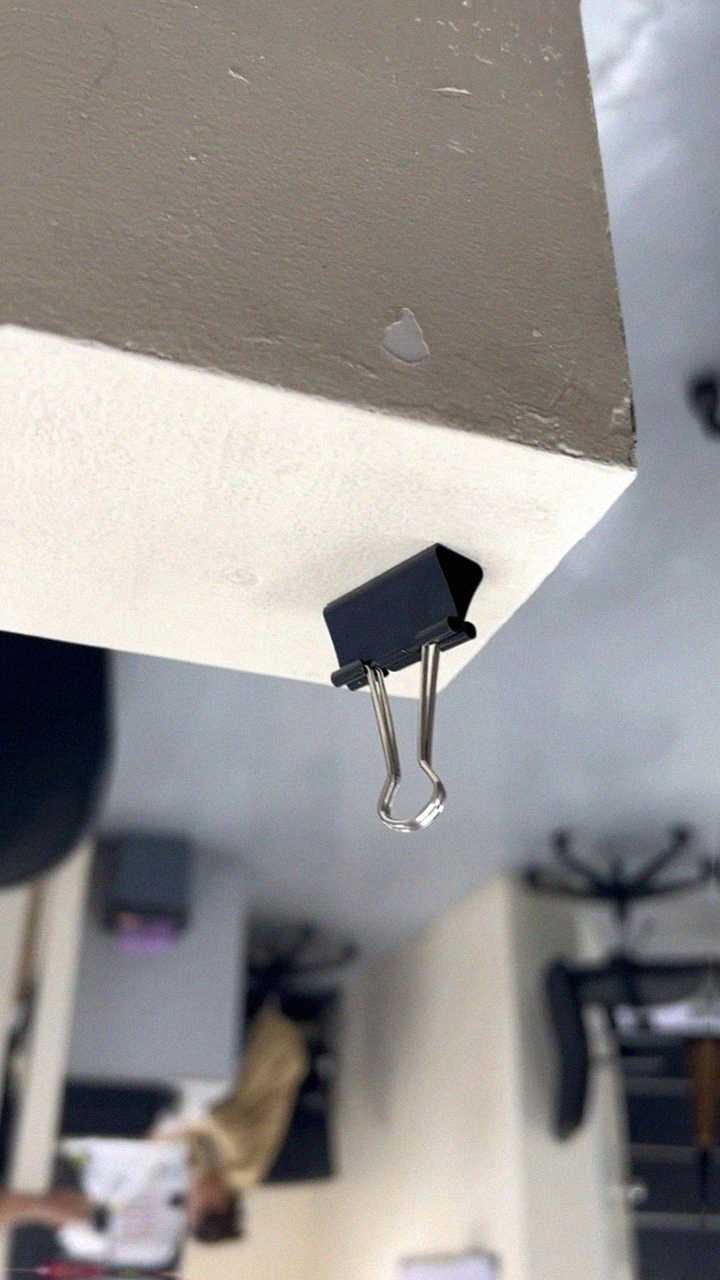kep_giay: (312, 535, 488, 837)
